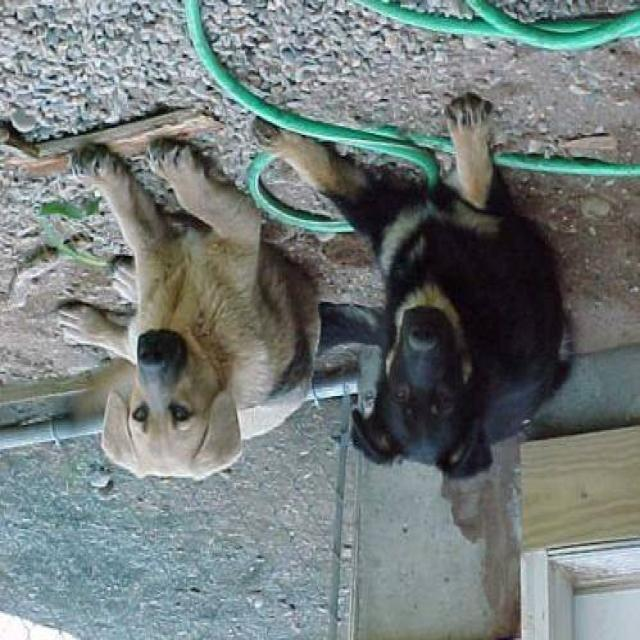dog: (306, 92, 582, 493)
